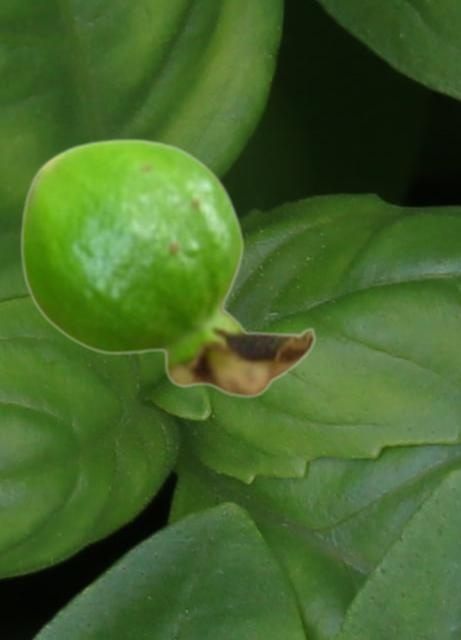guava: (19, 137, 316, 398)
